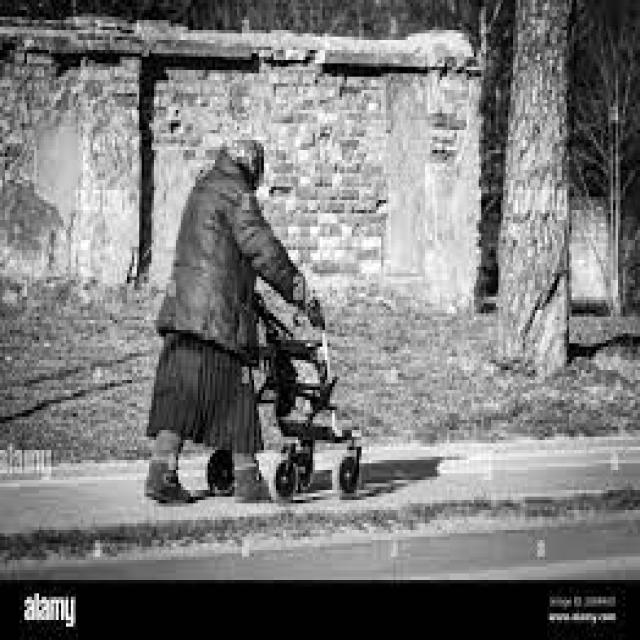idoso em pe: (136, 140, 282, 516)
